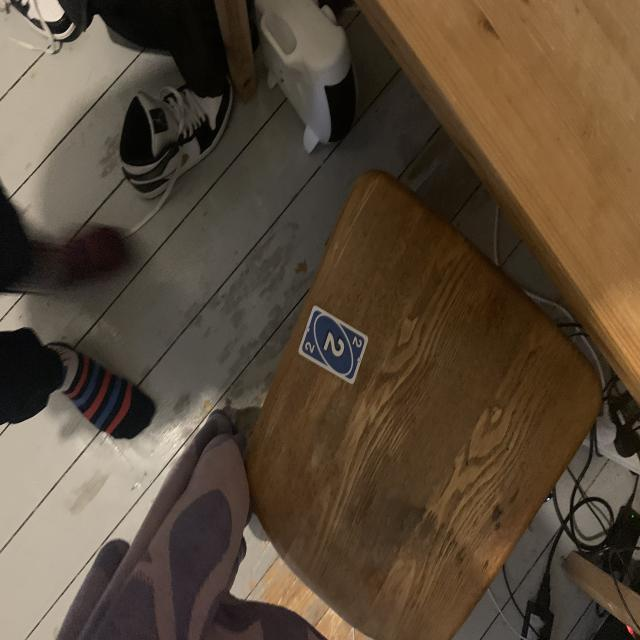lblue-2: (304, 339, 316, 355)
